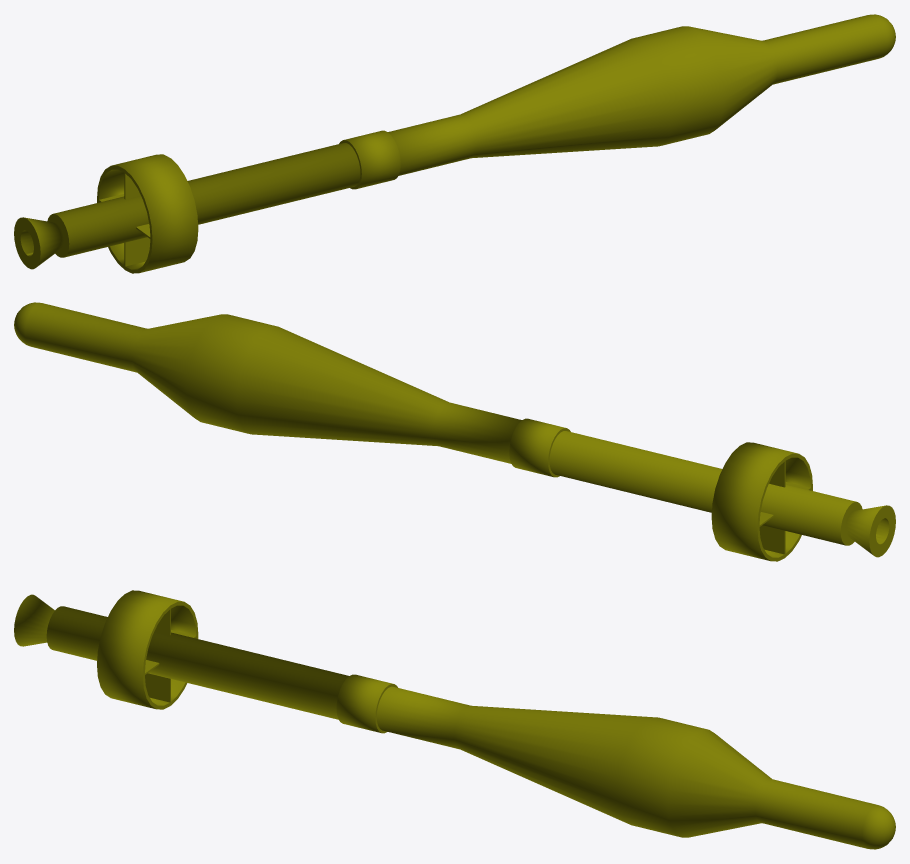
Rendered from rocket.fbx.
3 renders of one model, top to bottom at view 1: azimuth 30°, elevation 25°; view 2: azimuth 150°, elevation 25°; view 3: azimuth 330°, elevation 25°, orthographic.
Parts seen in each view (by area): view 1: G-__559299, G-__559290; view 2: G-__559299, G-__559290; view 3: G-__559299, G-__559290.
Boxes of the visible parts, x1,y1,x2,y2 form: G-__559299: [14, 14, 895, 269]; G-__559290: [97, 154, 198, 273]; G-__559299: [14, 302, 895, 557]; G-__559290: [711, 442, 812, 561]; G-__559299: [14, 594, 895, 849]; G-__559290: [97, 590, 198, 709].
Size of the model in its own units: 559 by 62.24 by 62.24.
